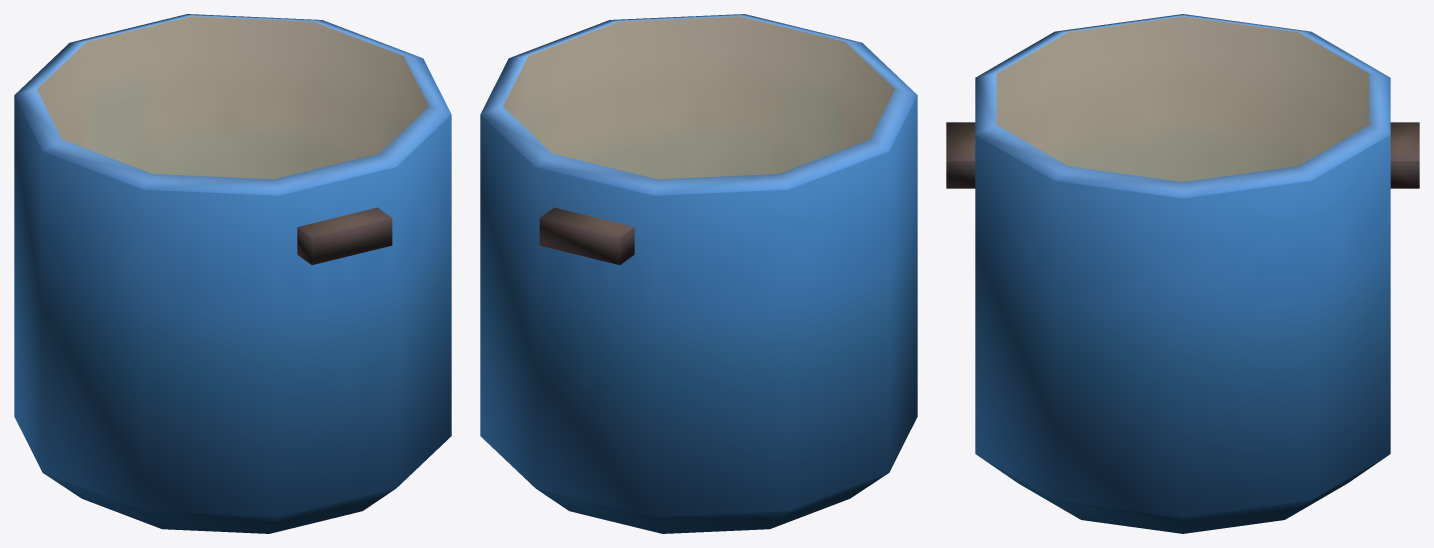
The model's file is Cat_Pot.fbx.
The picture shows the model from 3 angles, left to right: view 1: azimuth 30°, elevation 25°; view 2: azimuth 150°, elevation 25°; view 3: azimuth 270°, elevation 25°; orthographic projection.
Visible parts, largest first — view 1: Cat_Pot; view 2: Cat_Pot; view 3: Cat_Pot.
Part boxes in pixels (x1,y1,x2,y2): Cat_Pot: [14, 14, 451, 533]; Cat_Pot: [480, 14, 917, 533]; Cat_Pot: [946, 14, 1419, 533].
Bounding box in the file's own units: 30.78 × 28.12 × 33.36.
